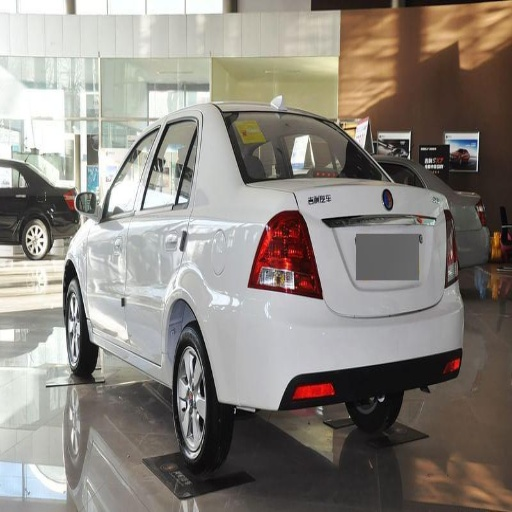back_bumper: (212, 288, 461, 424)
back_glass: (226, 114, 385, 182)
back_left_door: (130, 115, 193, 364)
tailgate: (250, 179, 448, 317)
